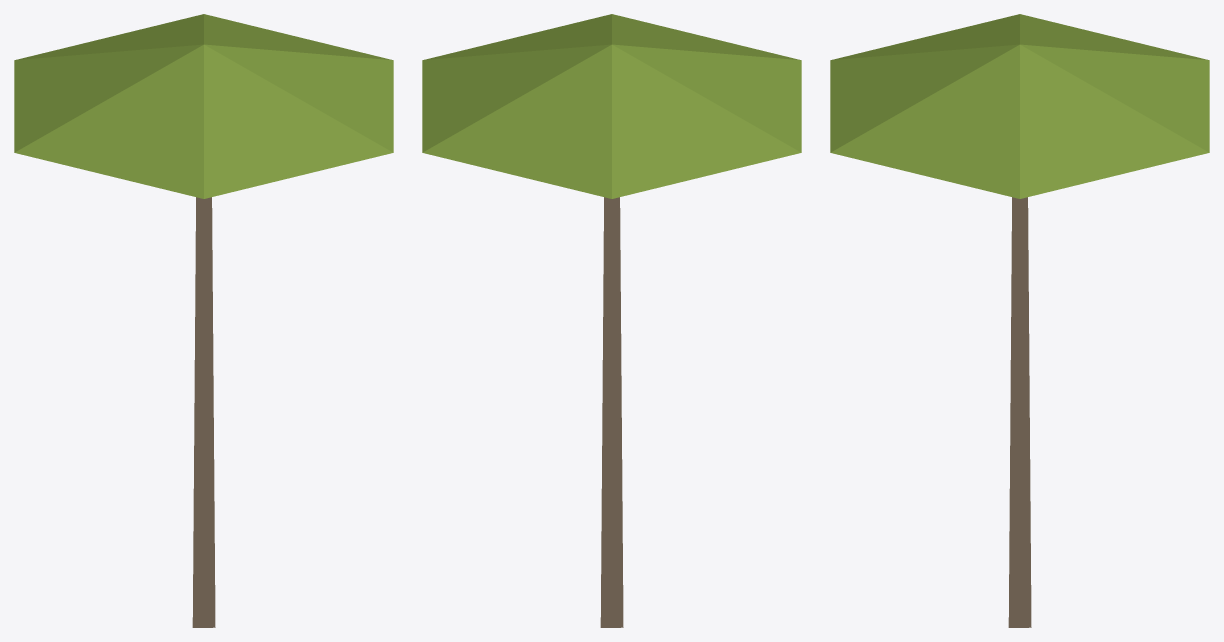
File: baobab_loin.glb
3 views of the same model, side by side, from view 1: azimuth 30°, elevation 25°; view 2: azimuth 150°, elevation 25°; view 3: azimuth 270°, elevation 25° (orthographic).
Visible parts, largest first — view 1: baobab_loin; view 2: baobab_loin; view 3: baobab_loin.
Part boxes in pixels (x1=…): baobab_loin: x1=14, y1=14, x2=393, y2=627; baobab_loin: x1=422, y1=14, x2=801, y2=627; baobab_loin: x1=830, y1=14, x2=1209, y2=627.
Bounding box in the file's own units: 8 × 11.7 × 6.93.
1 material, 1 textured.
